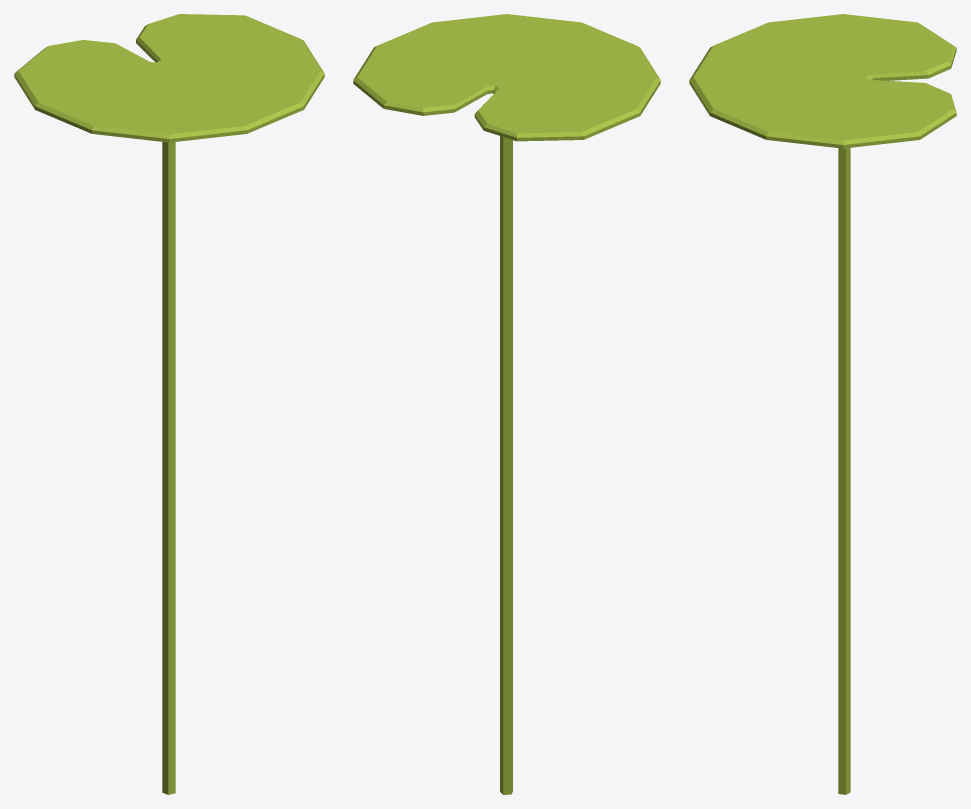
File: NHP_LilyPad_LP_A1_03.fbx
3 views of the same model, side by side, from view 1: azimuth 30°, elevation 25°; view 2: azimuth 150°, elevation 25°; view 3: azimuth 270°, elevation 25° (orthographic).
Parts seen in each view (by area): view 1: NHP_LilyPad_LP_A1_03_LOD0; view 2: NHP_LilyPad_LP_A1_03_LOD0; view 3: NHP_LilyPad_LP_A1_03_LOD0.
Part boxes in pixels (<box>): NHP_LilyPad_LP_A1_03_LOD0: <box>14,14,324,794</box>; NHP_LilyPad_LP_A1_03_LOD0: <box>353,14,660,794</box>; NHP_LilyPad_LP_A1_03_LOD0: <box>689,14,956,794</box>.
Size of what is drawn, in the model's own units: 0.785 by 2.01 by 0.6819.
